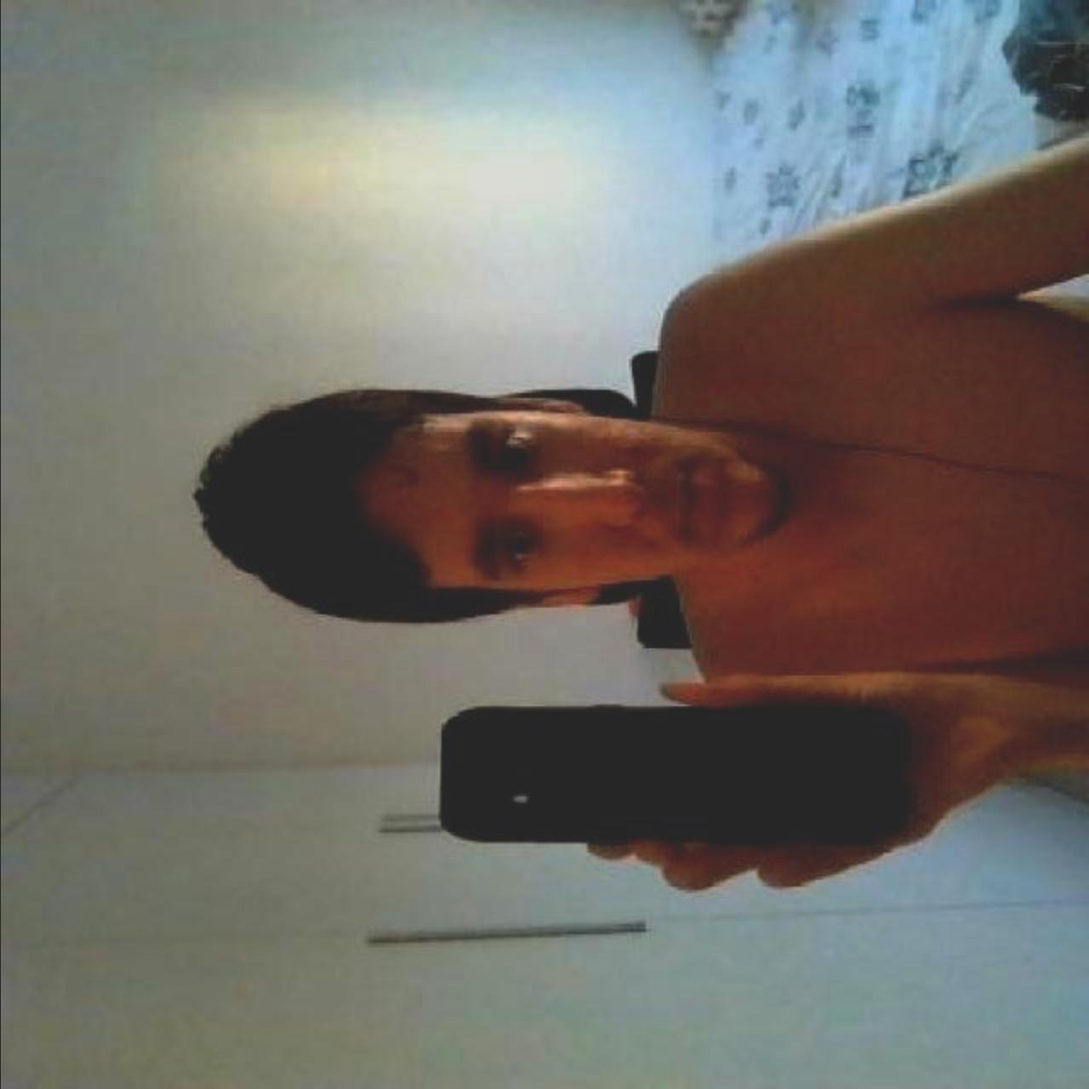phone: (435, 706, 913, 851)
